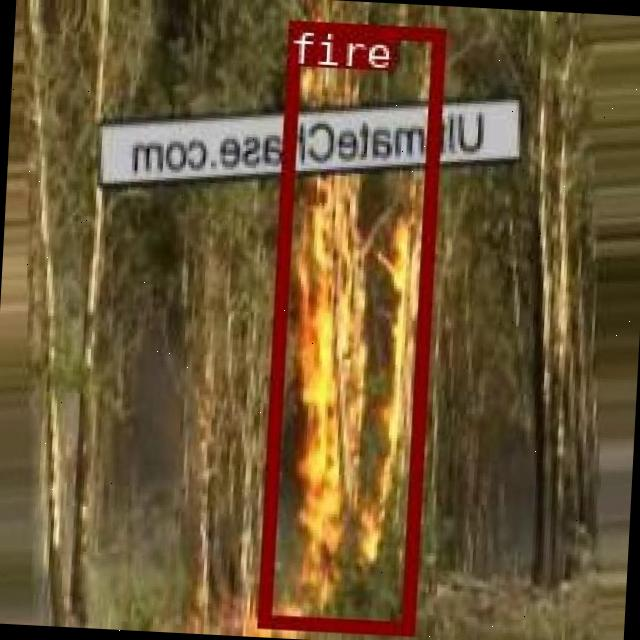fire: (257, 18, 444, 632)
